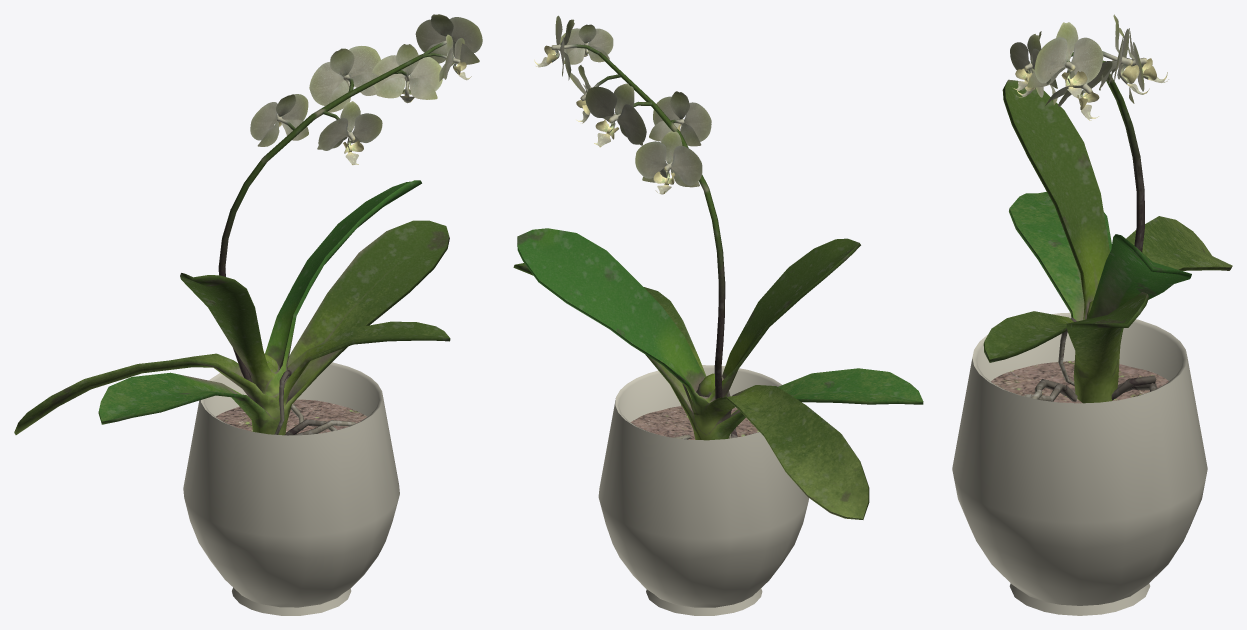
The model's file is orchid_plant.glb.
The picture shows the model from 3 angles, left to right: view 1: azimuth 30°, elevation 25°; view 2: azimuth 150°, elevation 25°; view 3: azimuth 270°, elevation 25°; orthographic projection. The views are drawn at different scales.
Parts seen in each view (by area): view 1: Object_32, Object_6, Object_38; view 2: Object_32, Object_6, Object_38; view 3: Object_6, Object_32, Object_38.
Part boxes in pixels (box(x1,y1,x2,y2)): Object_32: box(14, 14, 482, 435); Object_6: box(183, 362, 399, 615); Object_38: box(216, 399, 367, 433); Object_32: box(513, 15, 923, 519); Object_6: box(598, 365, 808, 615); Object_38: box(630, 406, 759, 439); Object_6: box(952, 312, 1207, 615); Object_32: box(983, 14, 1232, 403); Object_38: box(991, 361, 1168, 403).
Bounding box in the file's own units: 0.6008 × 0.7924 × 0.3125.
Materials: 3 (2 with a texture image).
